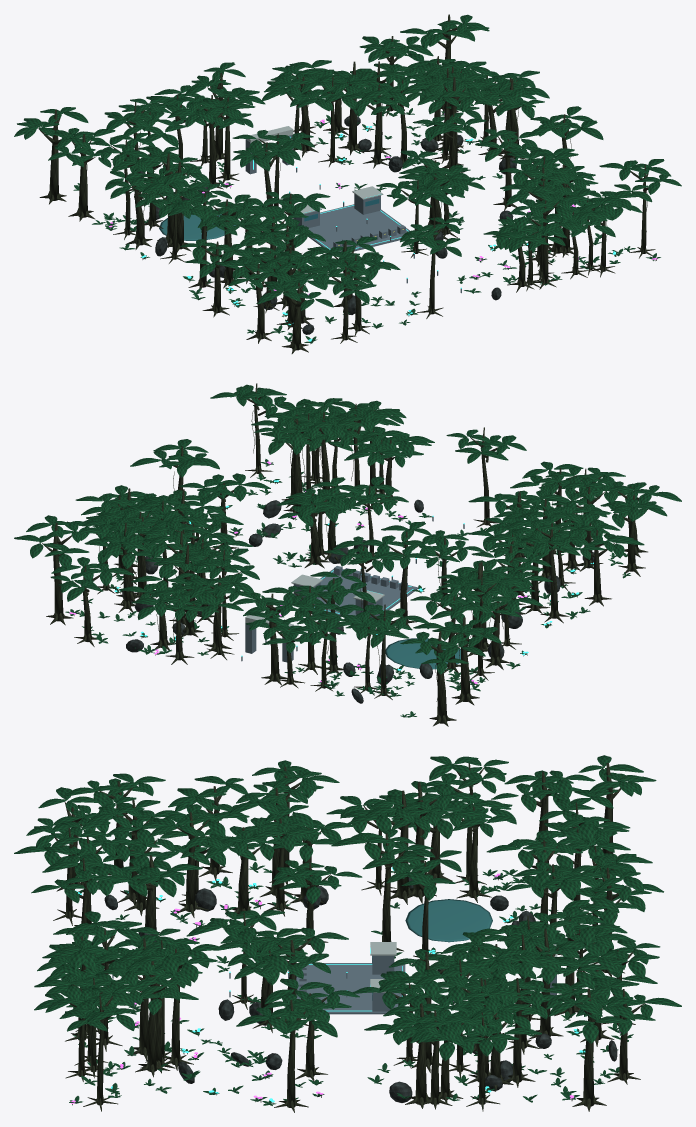
File: verdant_nine.glb
The picture shows the model from 3 angles, top to bottom: view 1: azimuth 30°, elevation 25°; view 2: azimuth 150°, elevation 25°; view 3: azimuth 270°, elevation 25°; orthographic projection. The views are drawn at different scales.
Visible parts, largest first — view 1: Central extraction platform, Shallow blue lagoon, Giant rainforest trunk.070; view 2: Central extraction platform, Shallow blue lagoon, Giant rainforest trunk.039; view 3: Central extraction platform, Shallow blue lagoon, Giant rainforest trunk.039, Giant rainforest trunk.012, Giant rainforest trunk.025, Giant rainforest trunk.028, Giant rainforest trunk.037, Giant rainforest trunk.058.
Boxes of the visible parts, x1=… form: Central extraction platform: x1=308, y1=204, x2=409, y2=251; Shallow blue lagoon: x1=159, y1=214, x2=235, y2=240; Giant rainforest trunk.070: x1=49, y1=109, x2=58, y2=200; Central extraction platform: x1=314, y1=568, x2=418, y2=616; Shallow blue lagoon: x1=385, y1=638, x2=460, y2=669; Giant rainforest trunk.039: x1=53, y1=523, x2=63, y2=621; Central extraction platform: x1=288, y1=963, x2=405, y2=1014; Shallow blue lagoon: x1=405, y1=899, x2=492, y2=942; Giant rainforest trunk.039: x1=583, y1=988, x2=593, y2=1106; Giant rainforest trunk.012: x1=415, y1=1003, x2=426, y2=1104; Giant rainforest trunk.025: x1=382, y1=833, x2=390, y2=941; Giant rainforest trunk.028: x1=287, y1=999, x2=295, y2=1107; Giant rainforest trunk.037: x1=147, y1=961, x2=157, y2=1071; Giant rainforest trunk.058: x1=238, y1=827, x2=248, y2=913.
Size of what is drawn, in the model's own units: 92.26 by 19.69 by 91.4.
10 materials, 3 textured.
